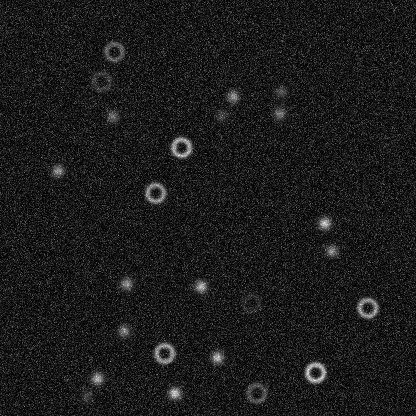Ring: (238, 290, 262, 314), (101, 39, 125, 63), (169, 135, 193, 159), (89, 69, 113, 93), (152, 341, 176, 365), (143, 180, 167, 204), (244, 380, 268, 404), (355, 295, 379, 319), (303, 360, 327, 384)
Spot: (115, 322, 131, 338), (89, 370, 105, 386), (213, 107, 229, 123), (323, 242, 339, 258), (272, 83, 288, 99), (271, 105, 287, 121), (78, 388, 94, 404), (118, 275, 134, 291), (224, 88, 240, 104), (49, 162, 65, 178), (166, 385, 182, 401), (104, 108, 120, 124), (316, 215, 332, 231), (208, 349, 224, 365), (192, 278, 208, 294)
